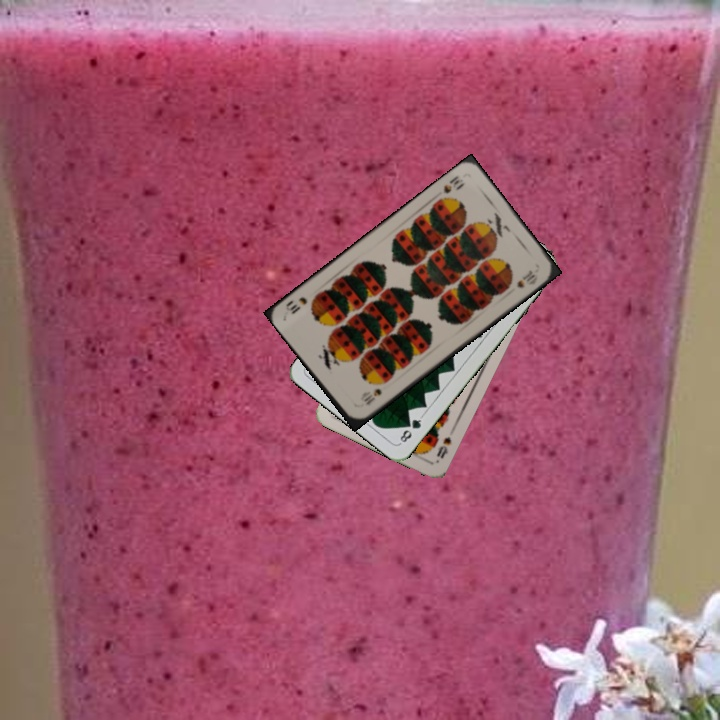G8: (396, 412, 425, 446)
S10: (439, 171, 468, 196), (360, 384, 384, 408)
S8: (432, 432, 454, 461)
